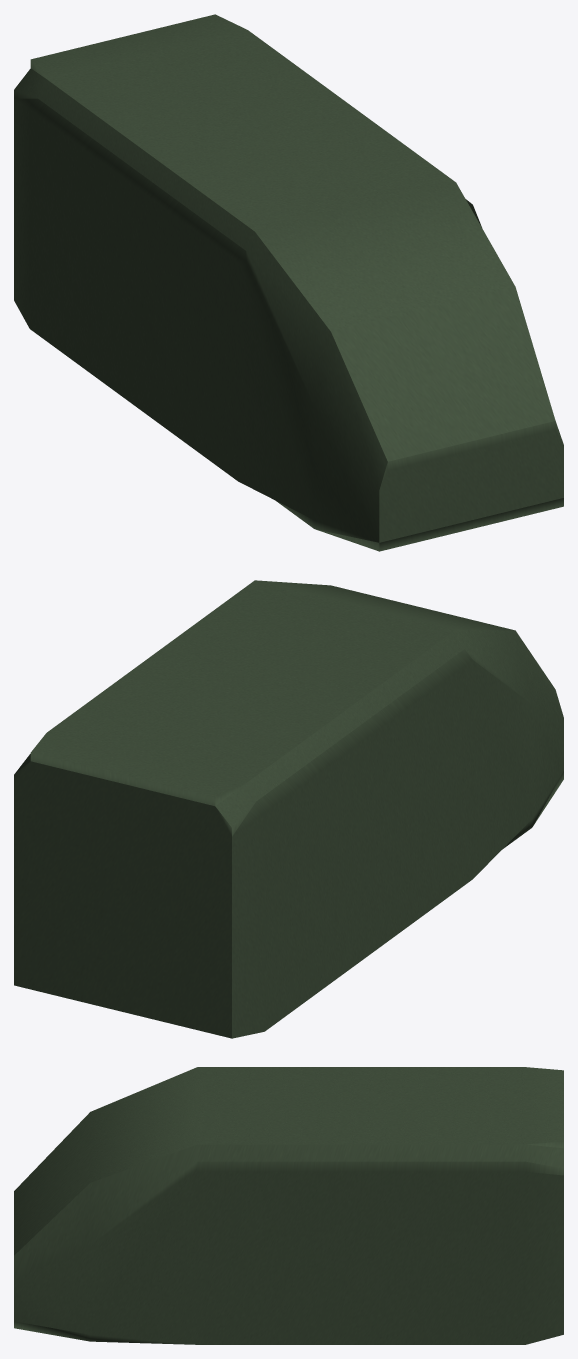
The picture shows the model from 3 angles, top to bottom: view 1: azimuth 30°, elevation 25°; view 2: azimuth 150°, elevation 25°; view 3: azimuth 270°, elevation 25°; orthographic projection. The views are drawn at different scales.
Size of the model in its own units: 2.24 by 2.24 by 5.76.
Materials: 1 (1 with a texture image).
